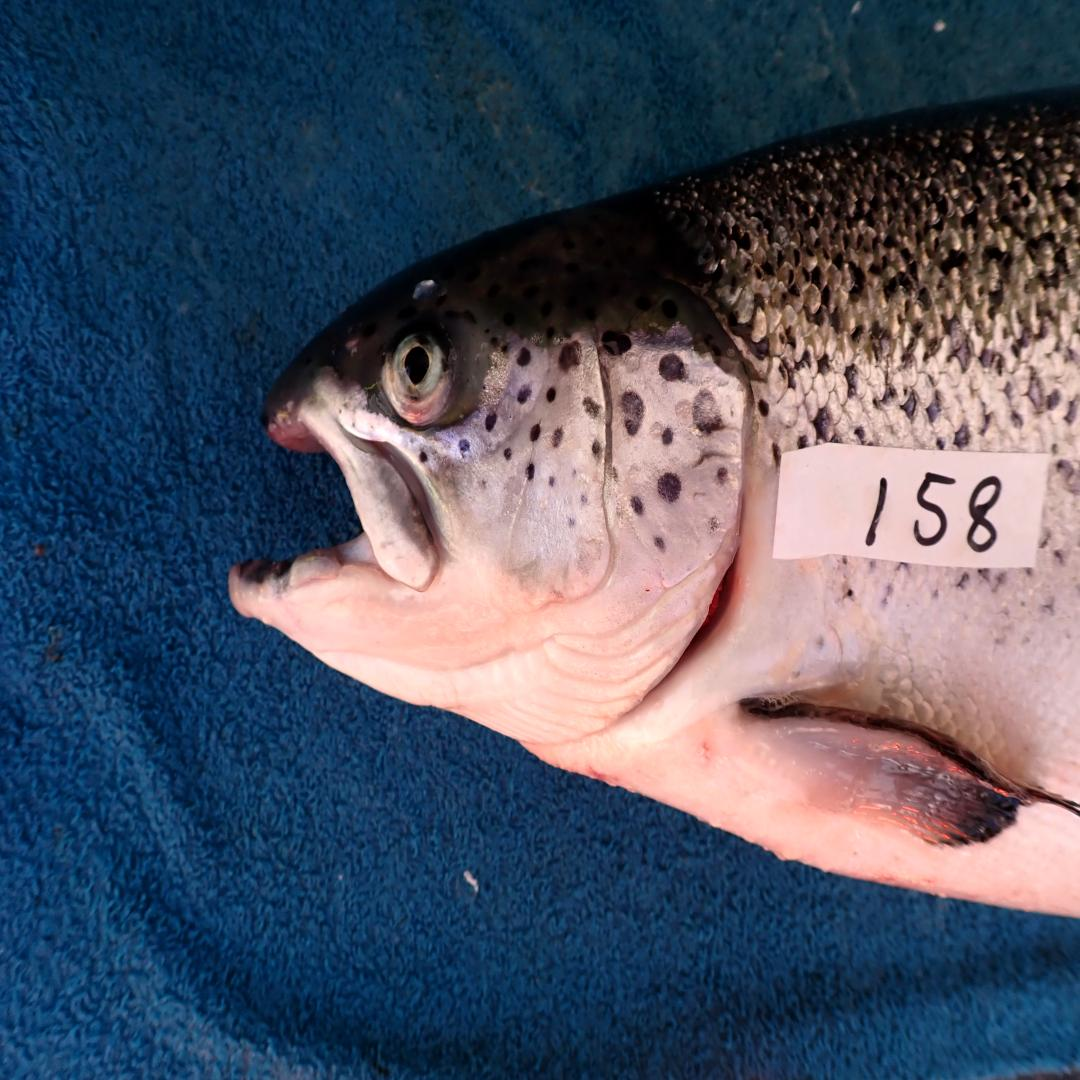roi: (435, 320, 755, 753)
